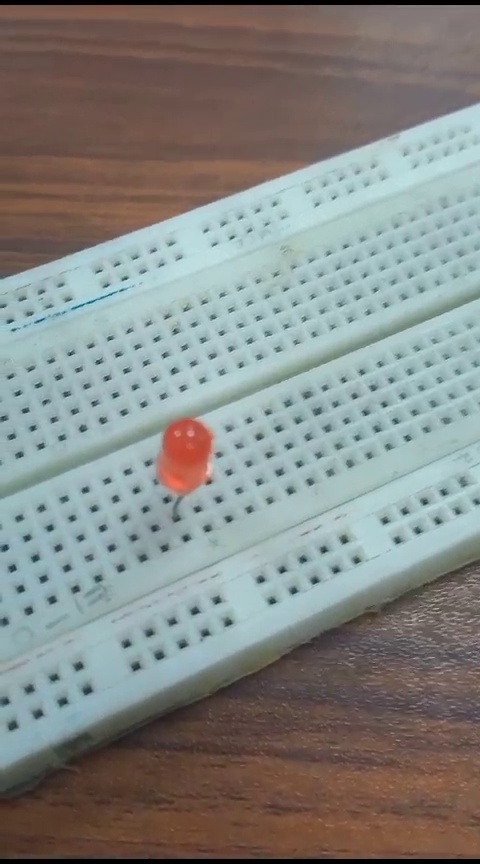LED: (142, 417, 227, 515)
